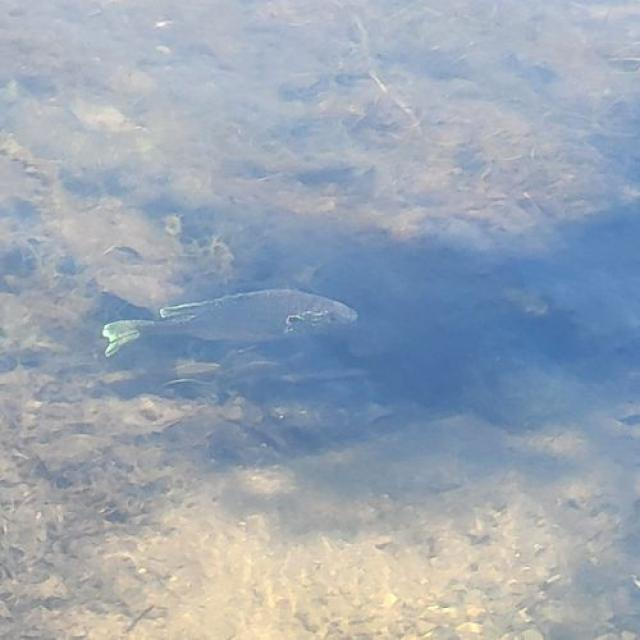Gunes Levregi: (99, 285, 362, 362)
